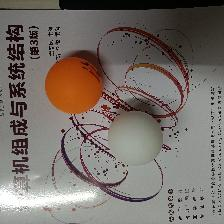WhiteBall: (108, 110, 162, 165)
YellowBall: (44, 56, 103, 113)
